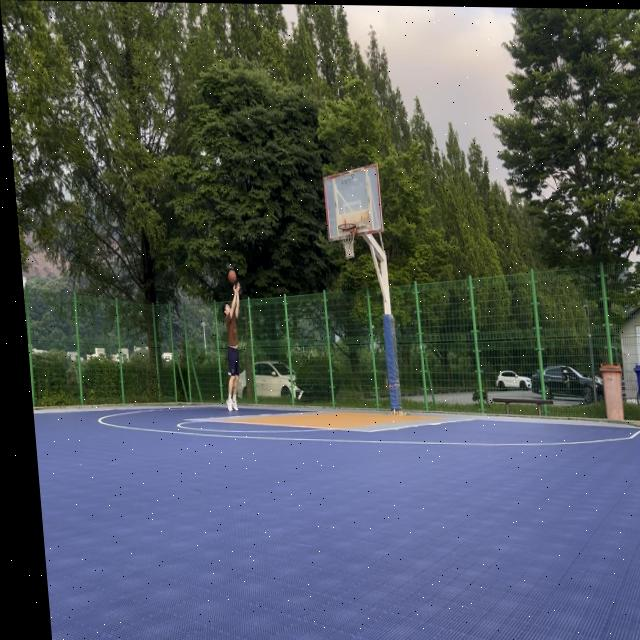basketball: (227, 269, 237, 285)
hoop: (338, 223, 359, 260)
